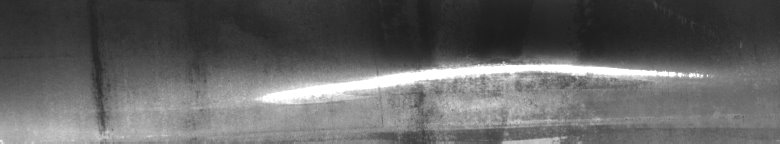ke: (255, 48, 714, 136)
